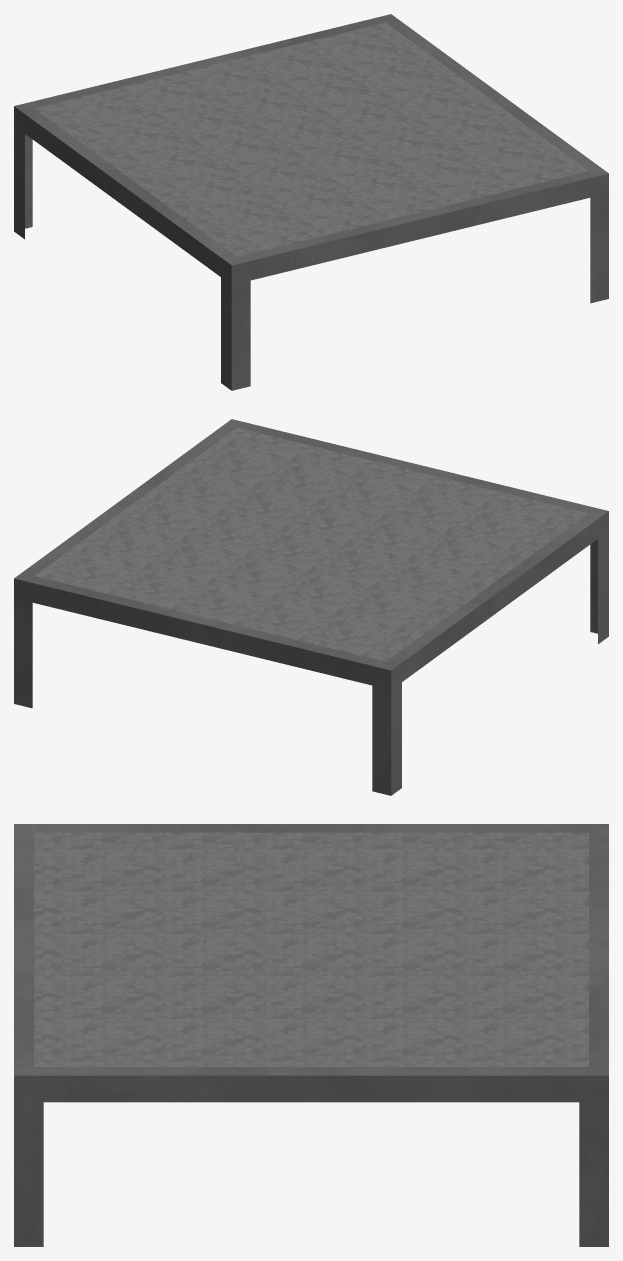
The model's file is Environment_Block.fbx.
3 renders of one model, top to bottom at view 1: azimuth 30°, elevation 25°; view 2: azimuth 150°, elevation 25°; view 3: azimuth 270°, elevation 25°, orthographic. The views are drawn at different scales.
Parts seen in each view (by area): view 1: Cube, Border; view 2: Cube, Border; view 3: Cube, Border.
Boxes of the visible parts, bbox=[...] form: Cube: bbox=[34, 22, 588, 256]; Border: bbox=[14, 14, 608, 390]; Cube: bbox=[34, 427, 588, 661]; Border: bbox=[14, 419, 608, 795]; Cube: bbox=[34, 832, 588, 1066]; Border: bbox=[14, 824, 608, 1246].
Bounding box in the file's own units: 301 × 95.67 × 301.
Materials: 2 (2 with a texture image).
